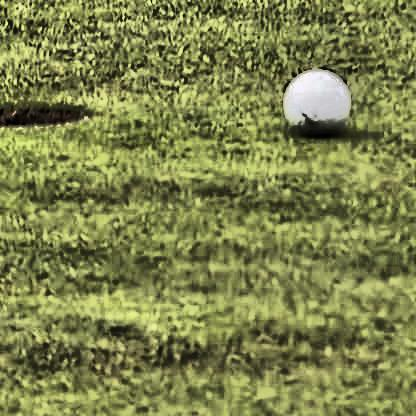golfball: (282, 65, 345, 130)
